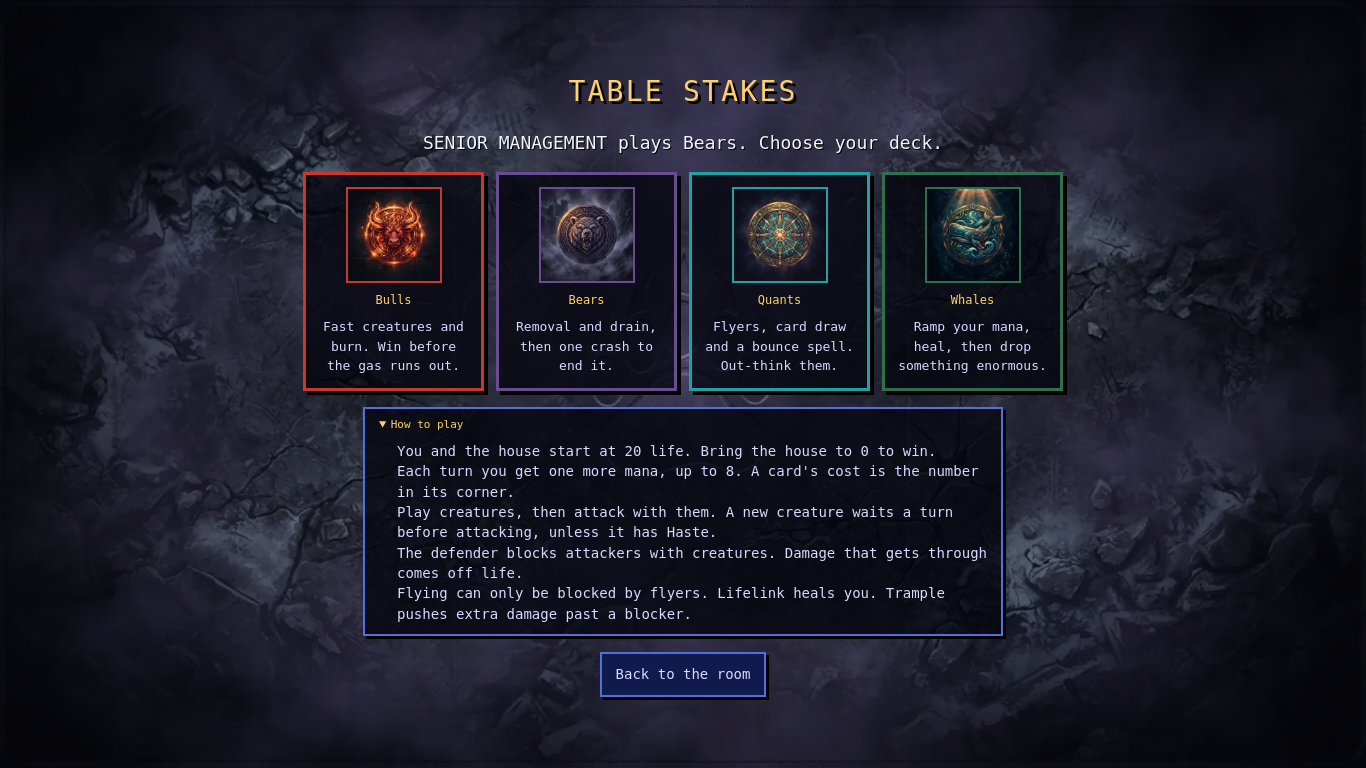
Test: DuelGame › ending the turn lets the house take a stepped turn and hands the turn back
The width and height of the screenshot is (1366, 768).
Click the button with aria-label "Play Bulls" at (394, 281), box [303,172,484,391]
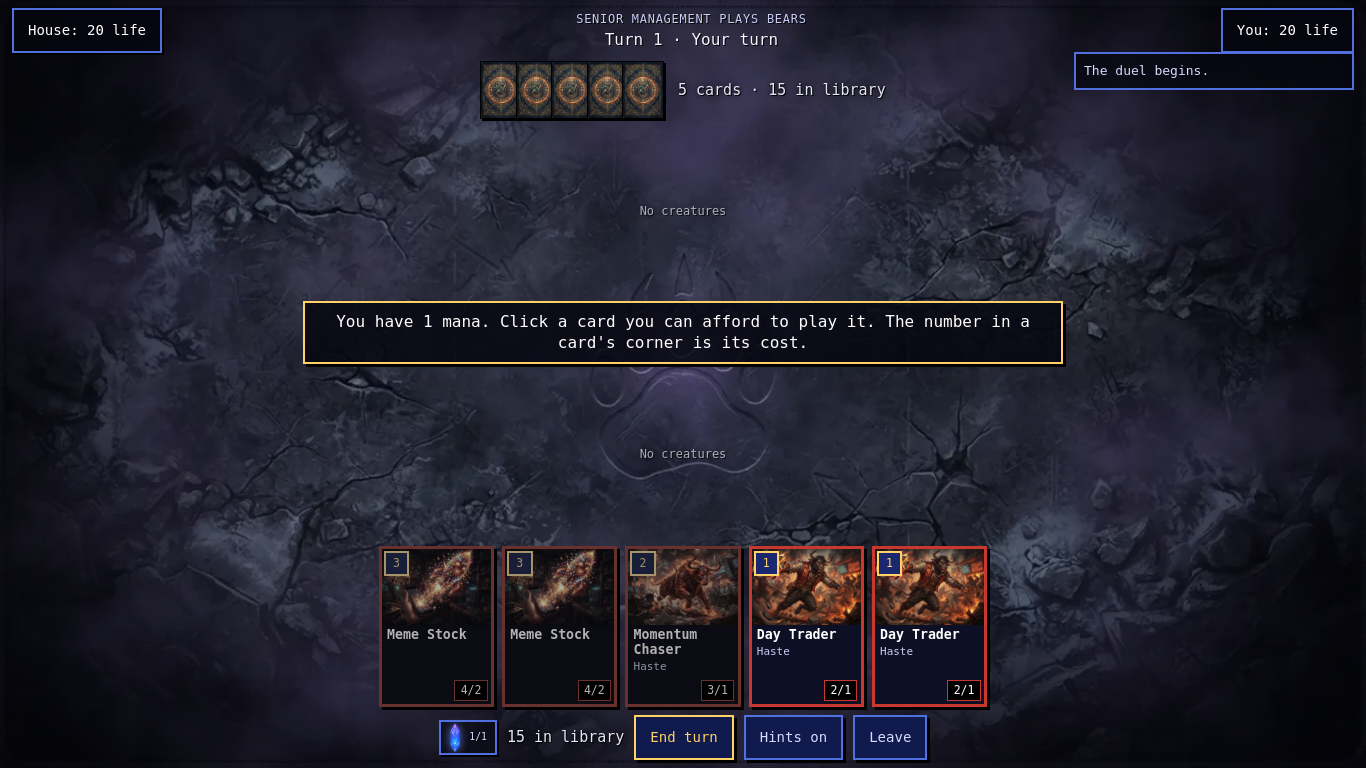
Click the button "End turn" at (684, 738), box [634,715,734,760]
Wait 1800 ms
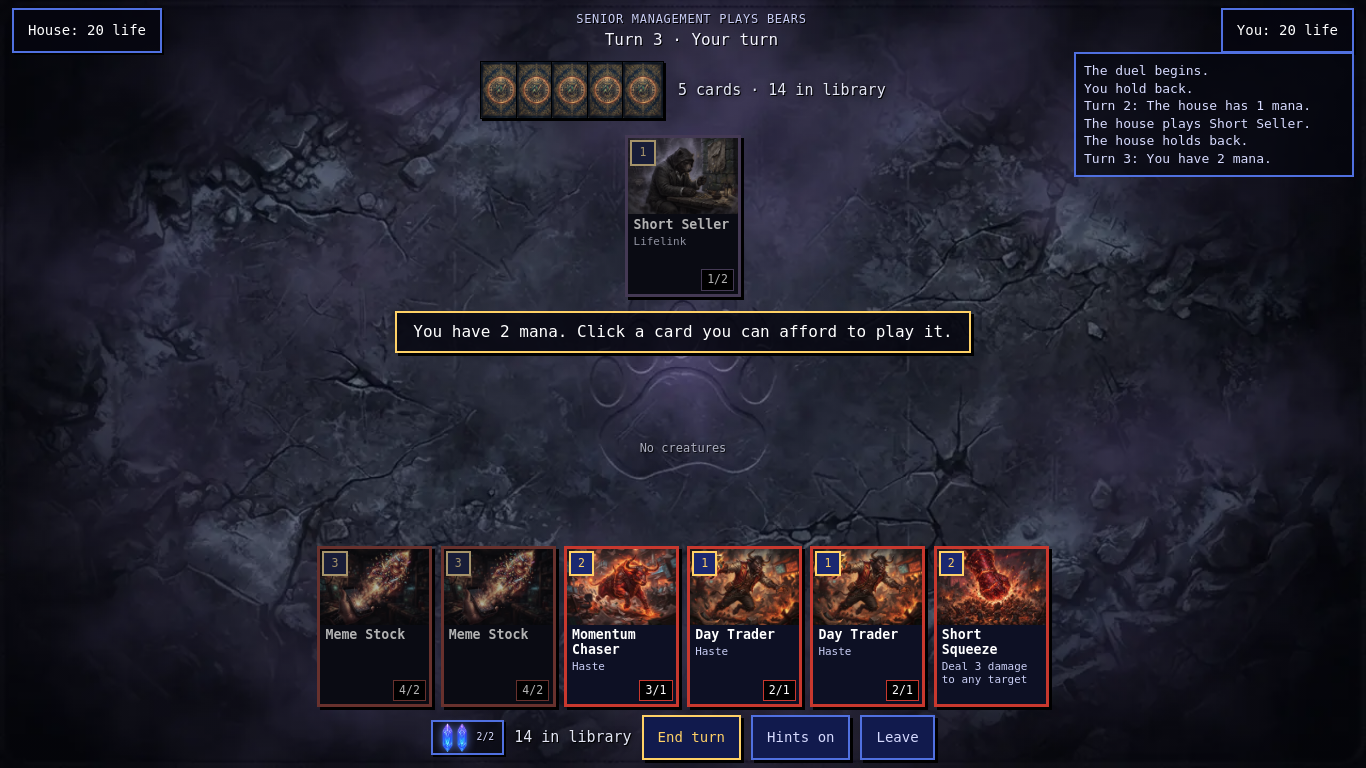
Now the text "SENIOR MANAGEMENT plays Bears Turn 3 · Your turn" is shown, box [576,12,807,48]
